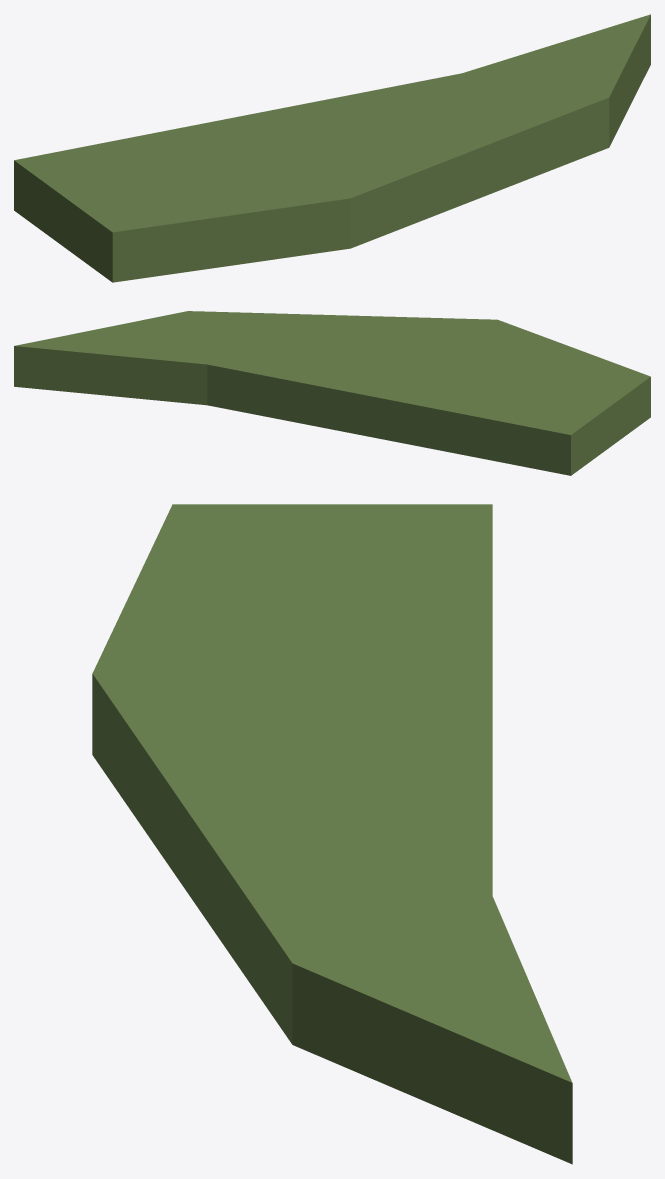
Rendered from Turtle_Flipper.glb.
3 renders of one model, top to bottom at view 1: azimuth 30°, elevation 25°; view 2: azimuth 150°, elevation 25°; view 3: azimuth 270°, elevation 25°, orthographic. The views are drawn at different scales.
Parts seen in each view (by area): view 1: Turtle_Flipper; view 2: Turtle_Flipper; view 3: Turtle_Flipper.
Boxes of the visible parts, x1,y1,x2,y2 form: Turtle_Flipper: (14, 14, 650, 282); Turtle_Flipper: (14, 311, 650, 475); Turtle_Flipper: (92, 504, 572, 1164).
Bounding box in the file's own units: 0.62 × 0.075 × 0.24.
